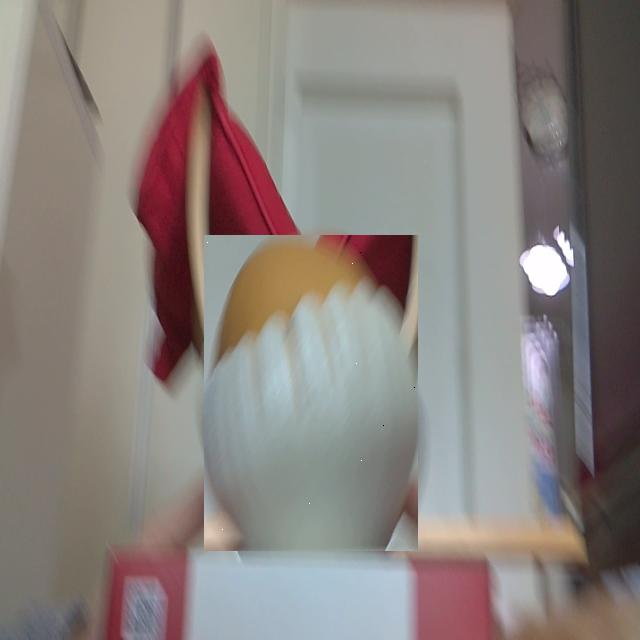pear: (204, 235, 418, 551)
